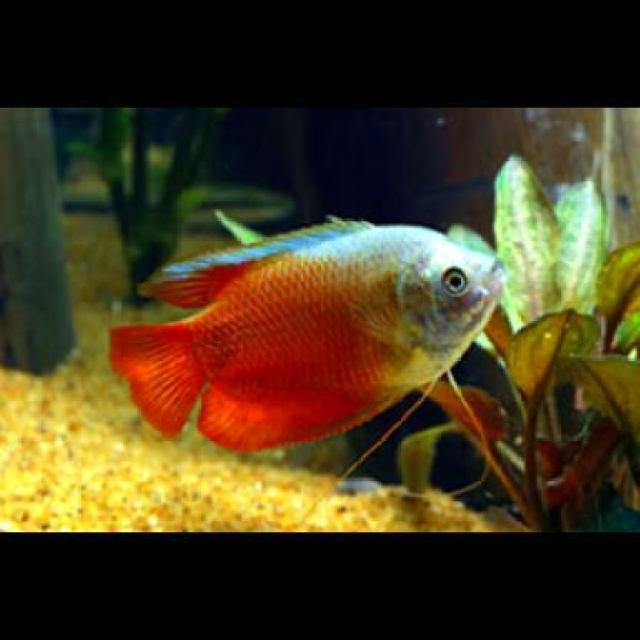Gourami: (105, 209, 508, 449)
